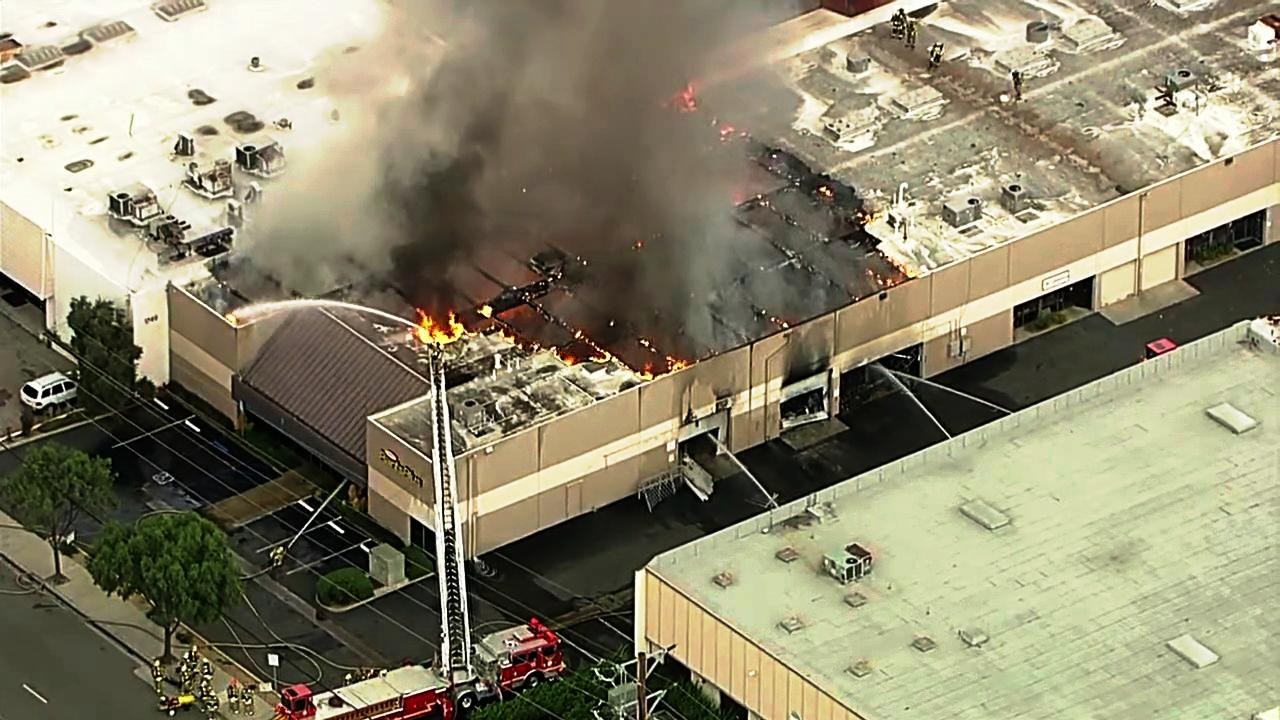smoke: (399, 3, 718, 205)
